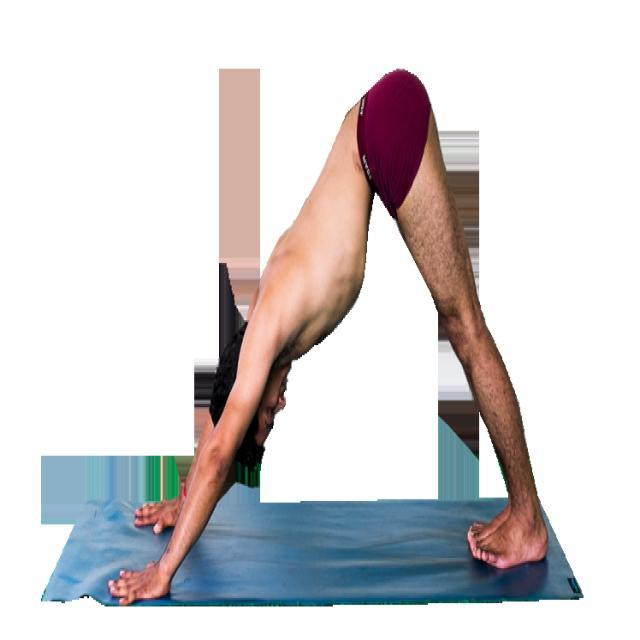Downward-Facing_Dog: (100, 65, 553, 606)
